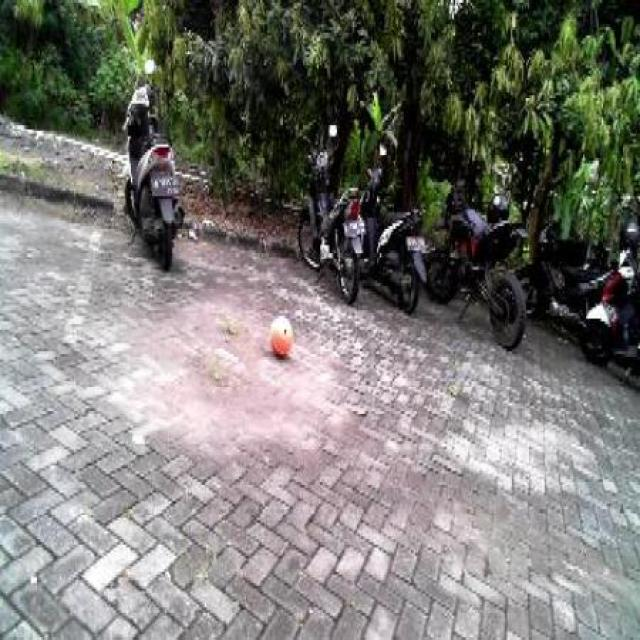buoy: (263, 306, 297, 361)
